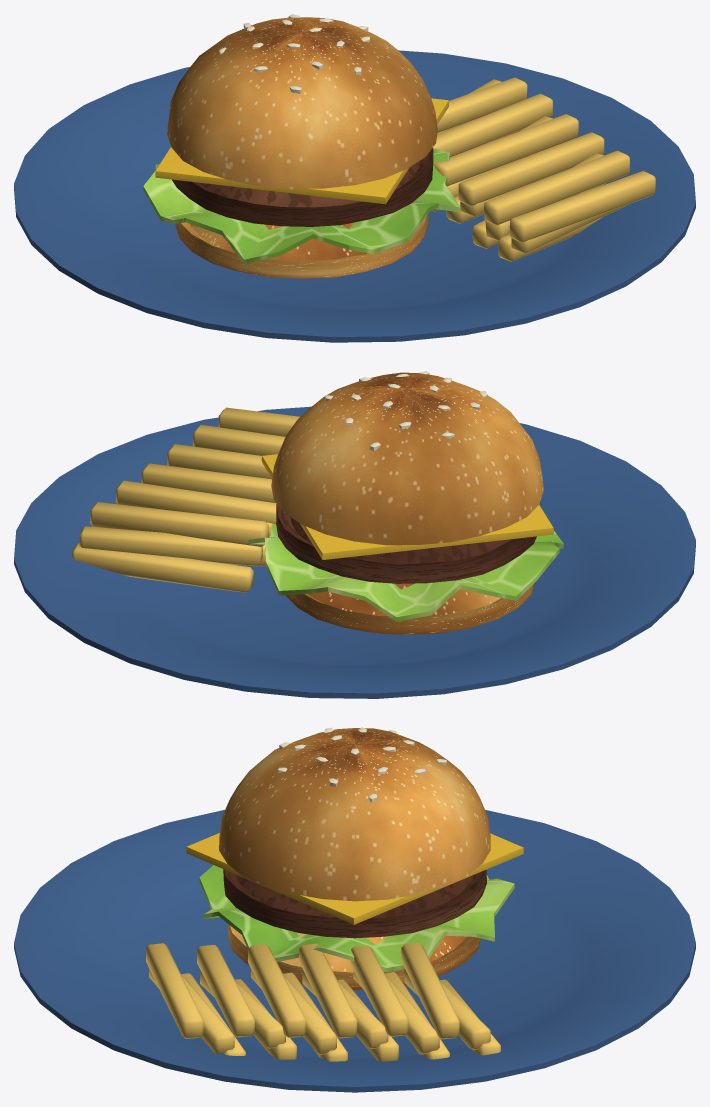
File: meal_burger_with_fries.glb
The picture shows the model from 3 angles, top to bottom: view 1: azimuth 30°, elevation 25°; view 2: azimuth 150°, elevation 25°; view 3: azimuth 270°, elevation 25°; orthographic projection.
Parts seen in each view (by area): view 1: meal_burger_with_fries; view 2: meal_burger_with_fries; view 3: meal_burger_with_fries.
Part boxes in pixels (x1,y1,x2,y2): meal_burger_with_fries: (14, 14, 695, 342); meal_burger_with_fries: (14, 371, 695, 698); meal_burger_with_fries: (14, 727, 695, 1092).
Size of the model in its own units: 0.28 by 0.0985 by 0.28.
8 materials, 3 textured.
